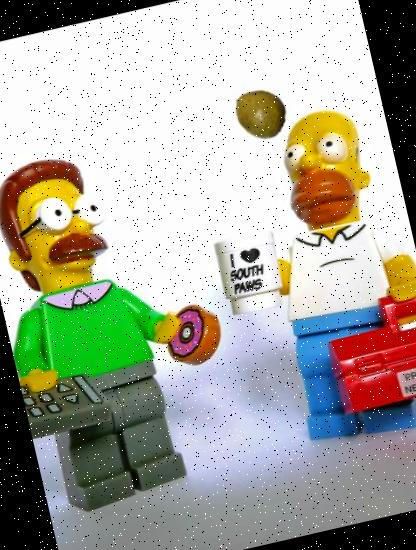Guava: (228, 81, 291, 145)
